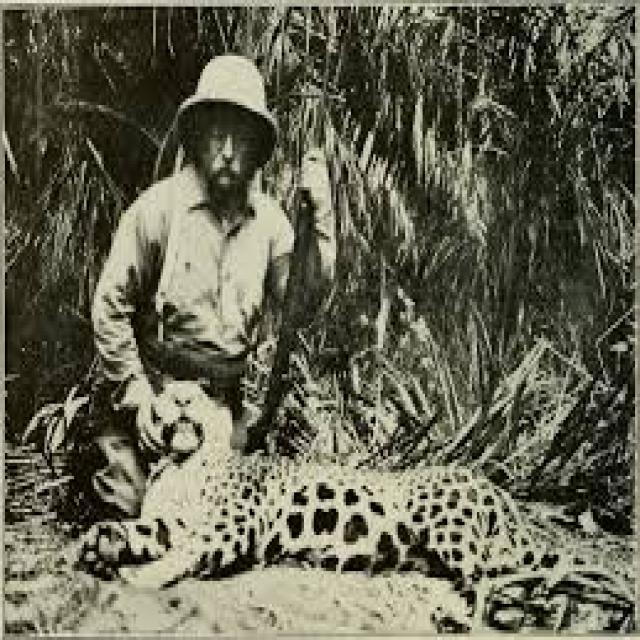Jaguar: (136, 354, 514, 598)
